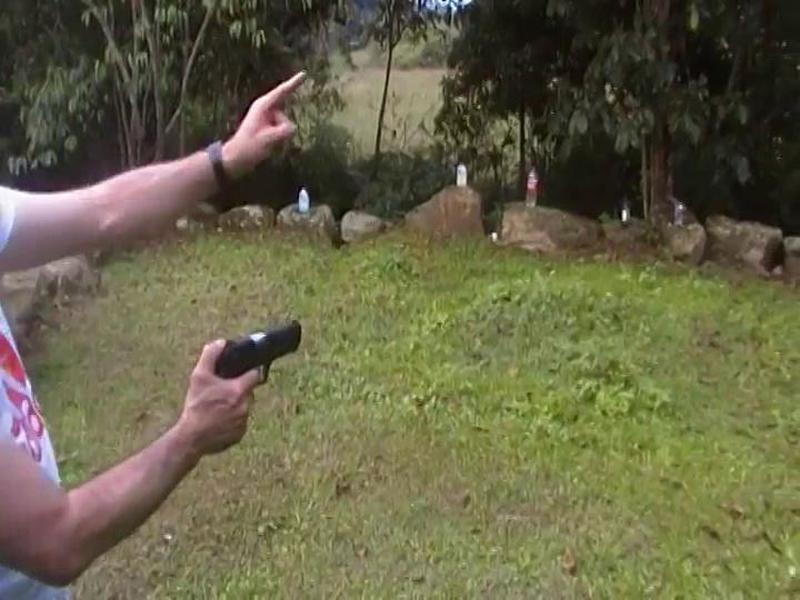Pistola: (188, 310, 326, 413)
